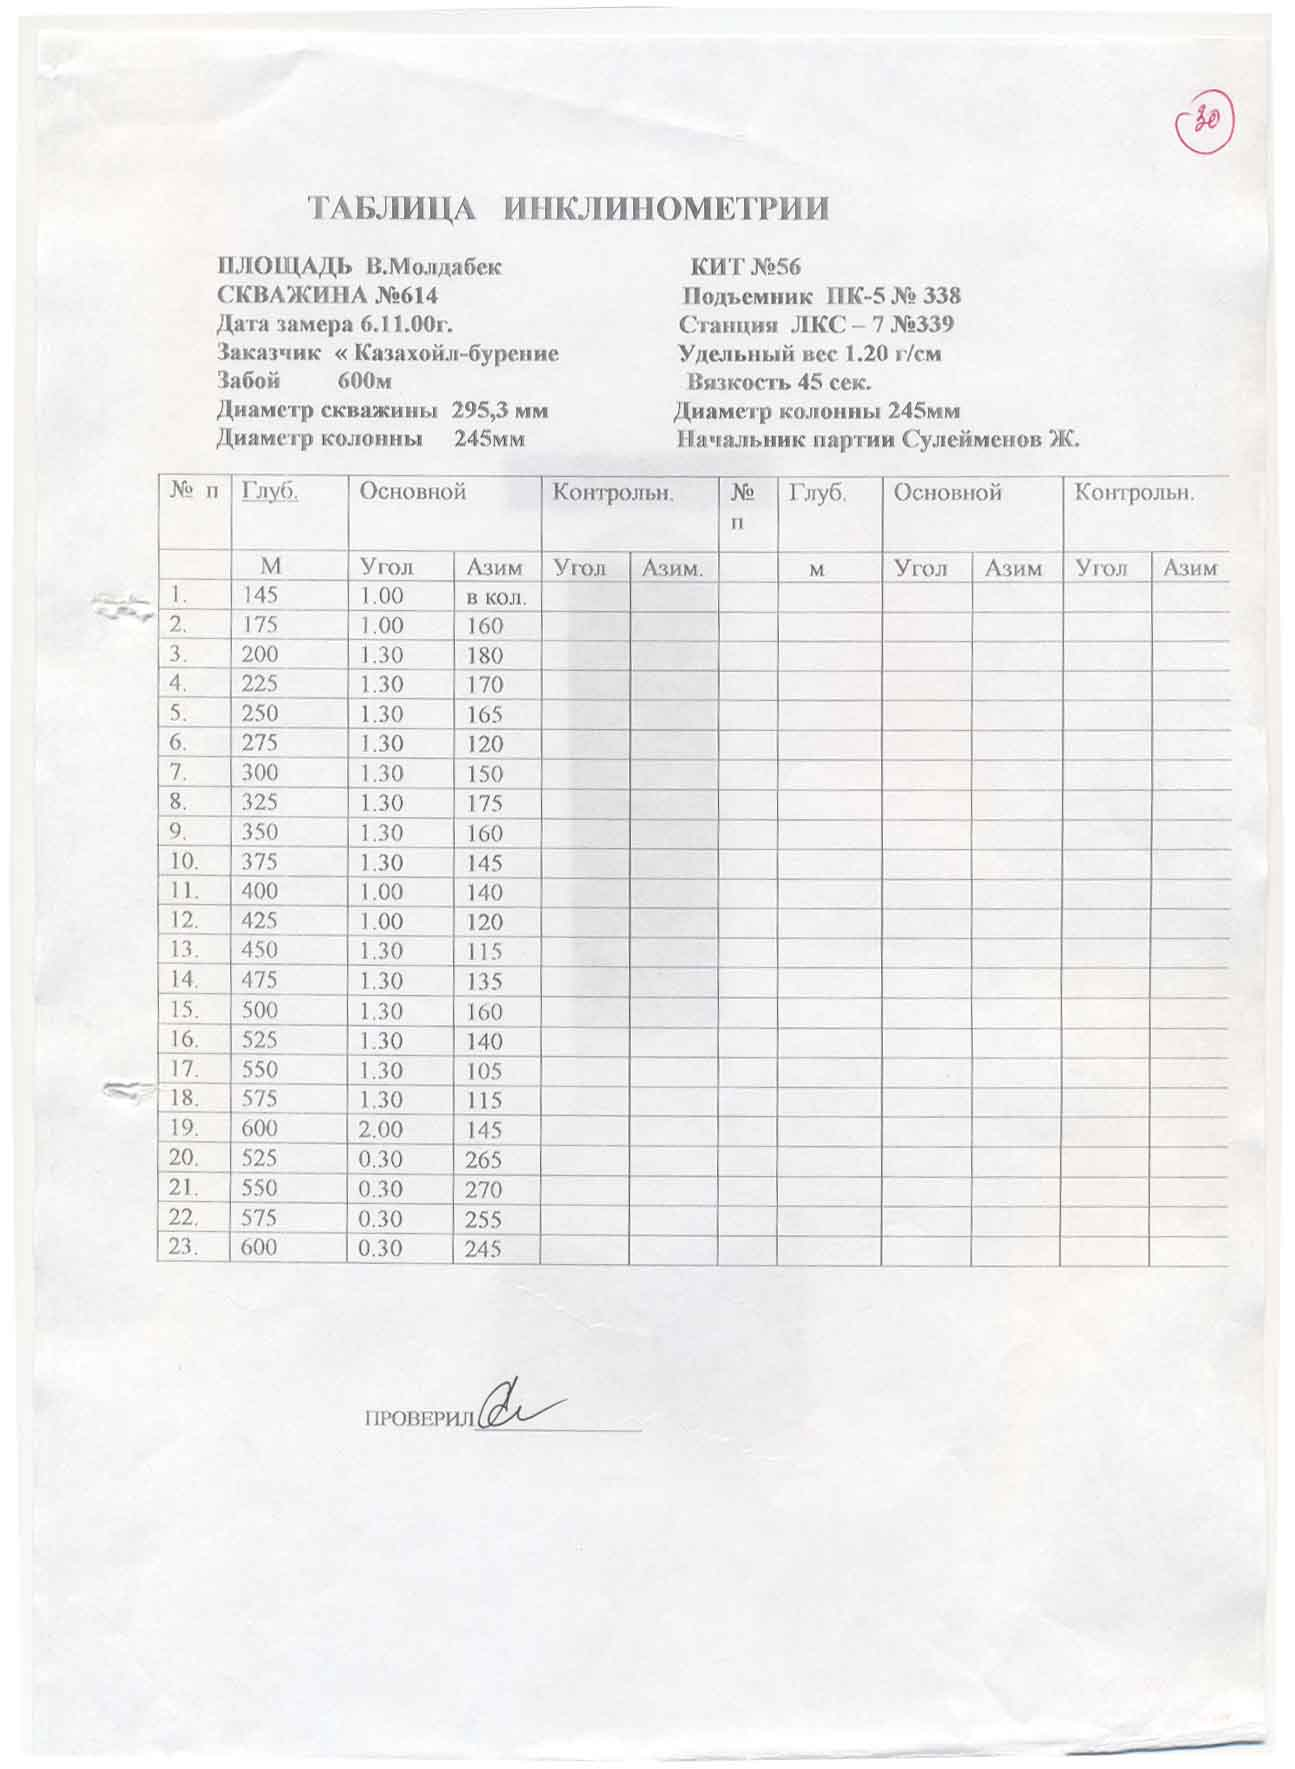Bordered: (157, 472, 1237, 1275)
